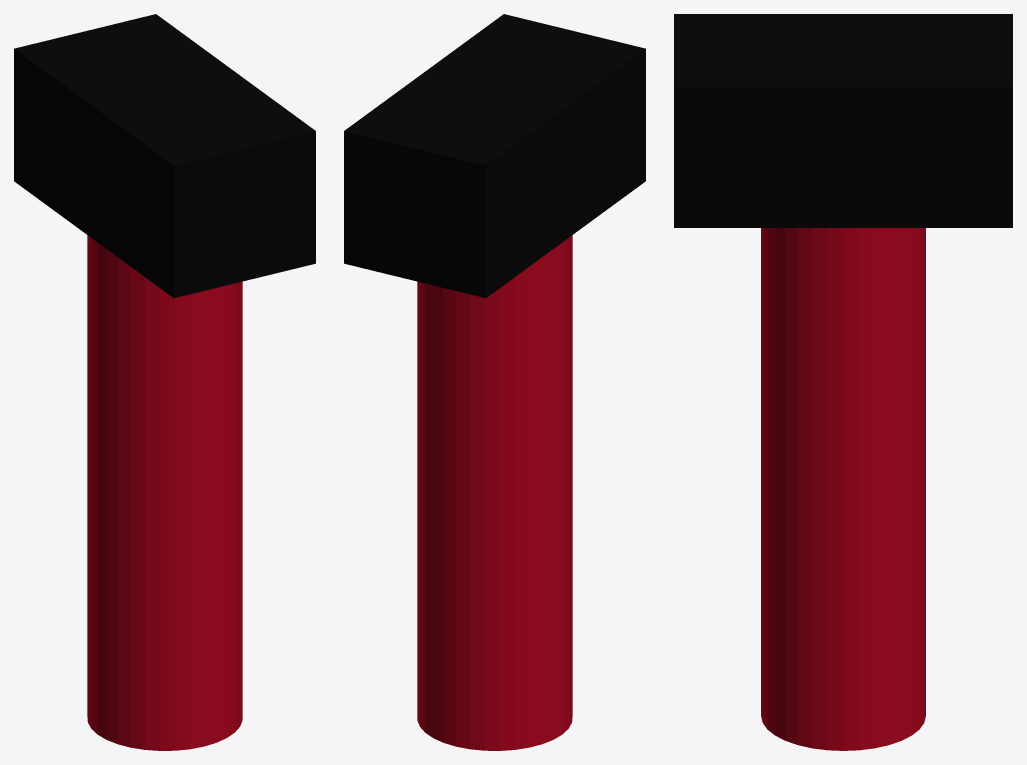
Rendered from Hammer02.fbx.
3 renders of one model, left to right at view 1: azimuth 30°, elevation 25°; view 2: azimuth 150°, elevation 25°; view 3: azimuth 270°, elevation 25°, orthographic. The views are drawn at different scales.
Parts seen in each view (by area): view 1: Circle.009; view 2: Circle.009; view 3: Circle.009.
Boxes of the visible parts, x1,y1,x2,y2 form: Circle.009: (14, 14, 315, 750); Circle.009: (344, 14, 645, 750); Circle.009: (674, 14, 1012, 750).
Bounding box in the file's own units: 52.73 × 223 × 103.
